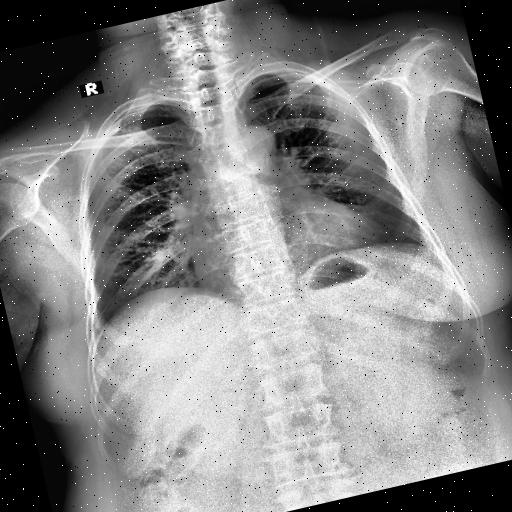0- Aortic enlargement: (219, 118, 281, 173), (236, 122, 278, 154)
11- Pleural thickening: (114, 100, 166, 118), (270, 66, 298, 80)
3- Cardiomegaly: (181, 200, 389, 302), (187, 204, 386, 308), (190, 209, 396, 302)
